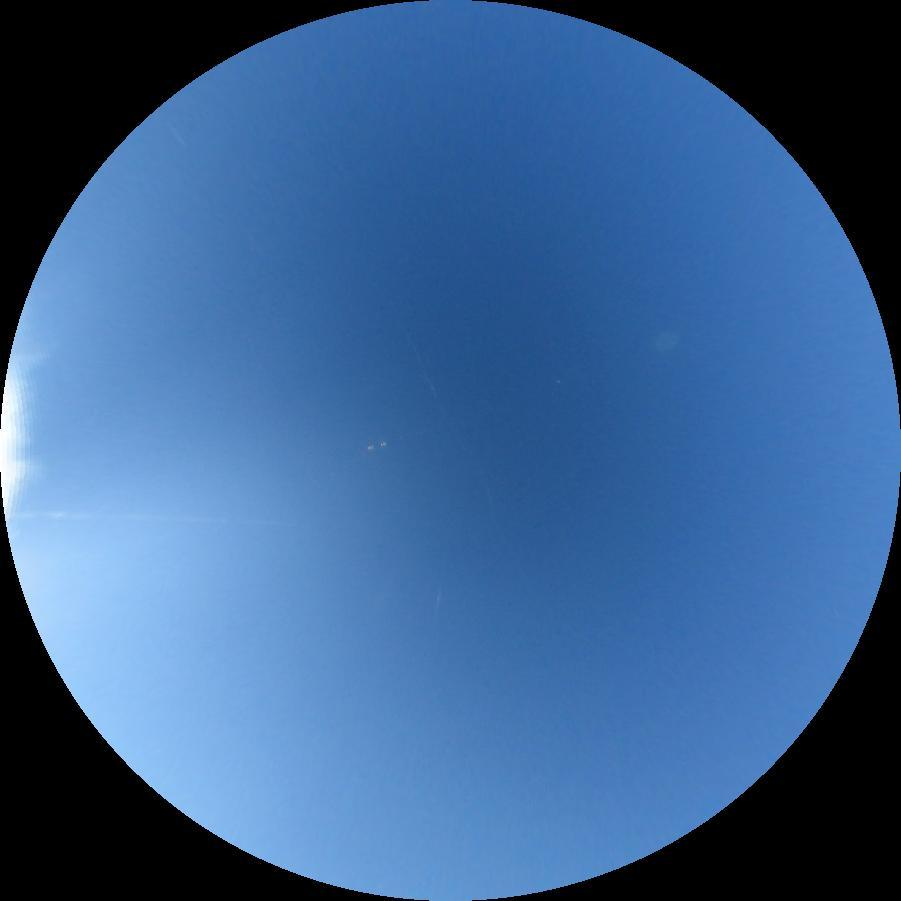contrail young: (167, 124, 187, 148)
parasite: (19, 513, 284, 526), (409, 341, 438, 397), (435, 588, 442, 614)
